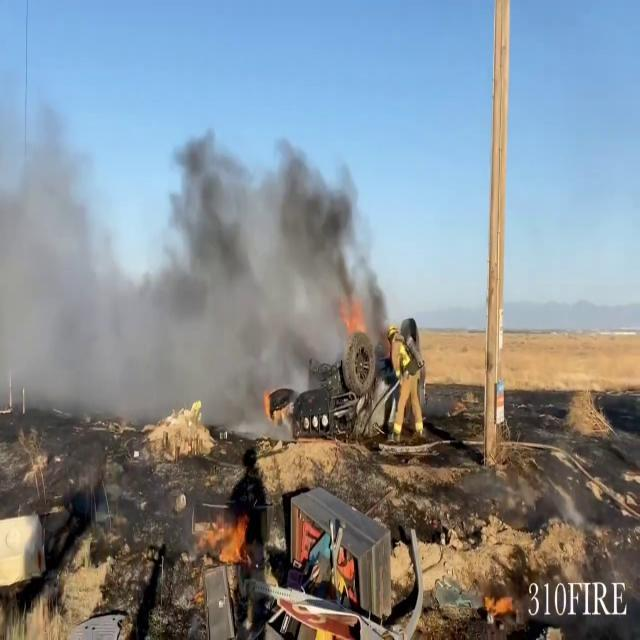Smoke: (0, 104, 381, 434)
